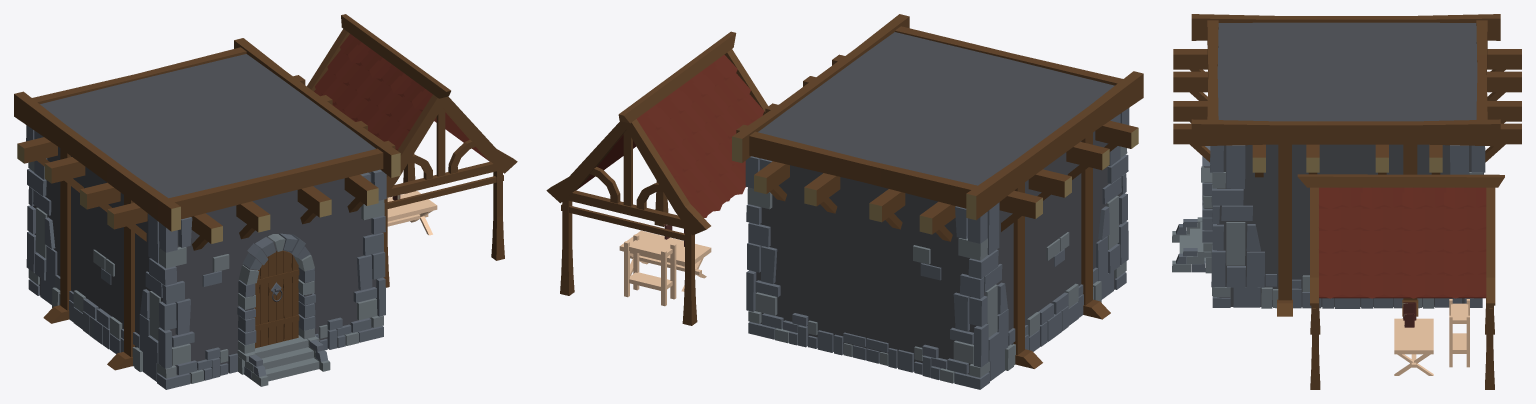
Rendered from london_scholar_1.glb.
3 views of the same model, side by side, from view 1: azimuth 30°, elevation 25°; view 2: azimuth 150°, elevation 25°; view 3: azimuth 270°, elevation 25° (orthographic). The views are drawn at different scales.
Visible parts, largest first — view 1: House_4, Gazebo, tableCross(Clone); view 2: House_4, Gazebo, bookcaseOpenLow(Clone), tableCross(Clone); view 3: House_4, Gazebo, tableCross(Clone), bookcaseOpenLow(Clone).
Part boxes in pixels (box(x1,y1,x2,y2)): House_4: box(14, 38, 400, 389); Gazebo: box(307, 14, 517, 287); tableCross(Clone): box(387, 191, 437, 235); House_4: box(732, 14, 1143, 389); Gazebo: box(546, 31, 768, 325); bookcaseOpenLow(Clone): box(624, 234, 676, 306); tableCross(Clone): box(619, 230, 711, 291); House_4: box(1172, 14, 1521, 316); Gazebo: box(1297, 174, 1504, 389); tableCross(Clone): box(1394, 318, 1433, 375); bookcaseOpenLow(Clone): box(1449, 299, 1469, 367).
Bounding box in the file's own units: 17.89 × 7.51 × 12.74.
